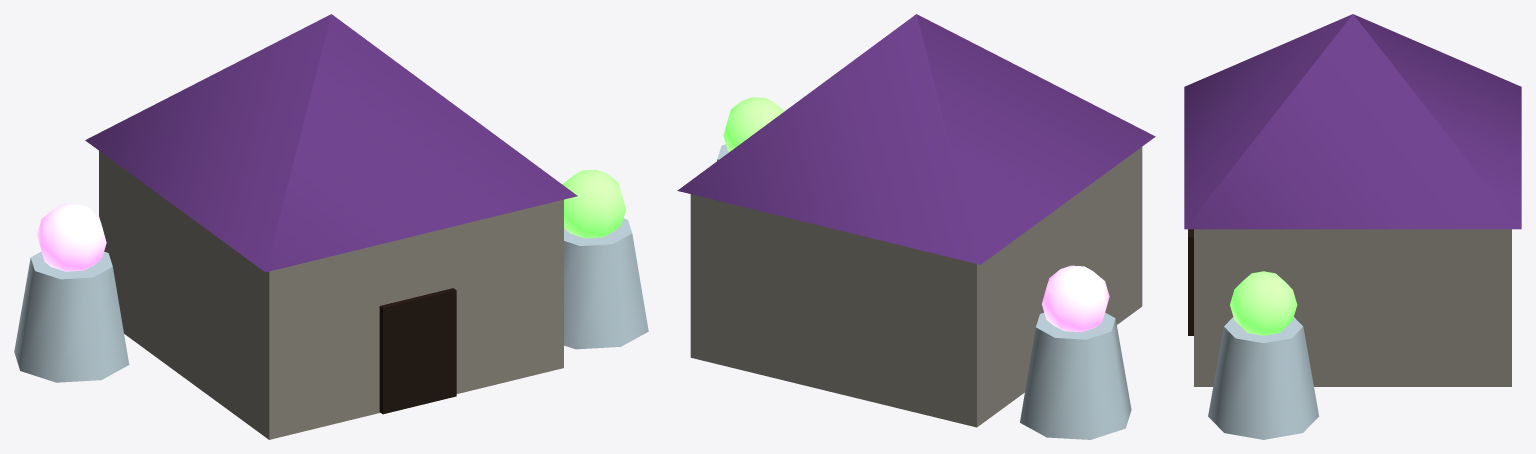
The model's file is goblin-level2.glb.
3 renders of one model, left to right at view 1: azimuth 30°, elevation 25°; view 2: azimuth 150°, elevation 25°; view 3: azimuth 270°, elevation 25°, orthographic. The views are drawn at different scales.
Bounding box in the file's own units: 3.03 × 1.8 × 1.8.
